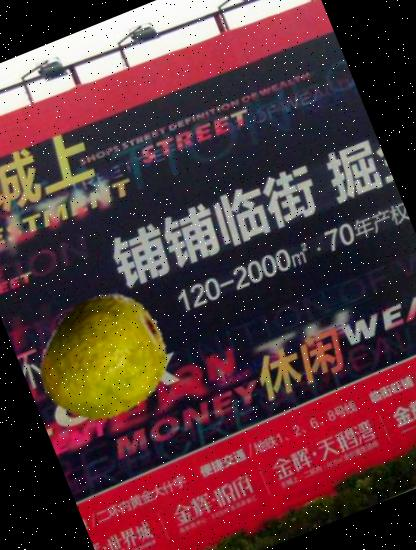Guava: (16, 270, 190, 444)
